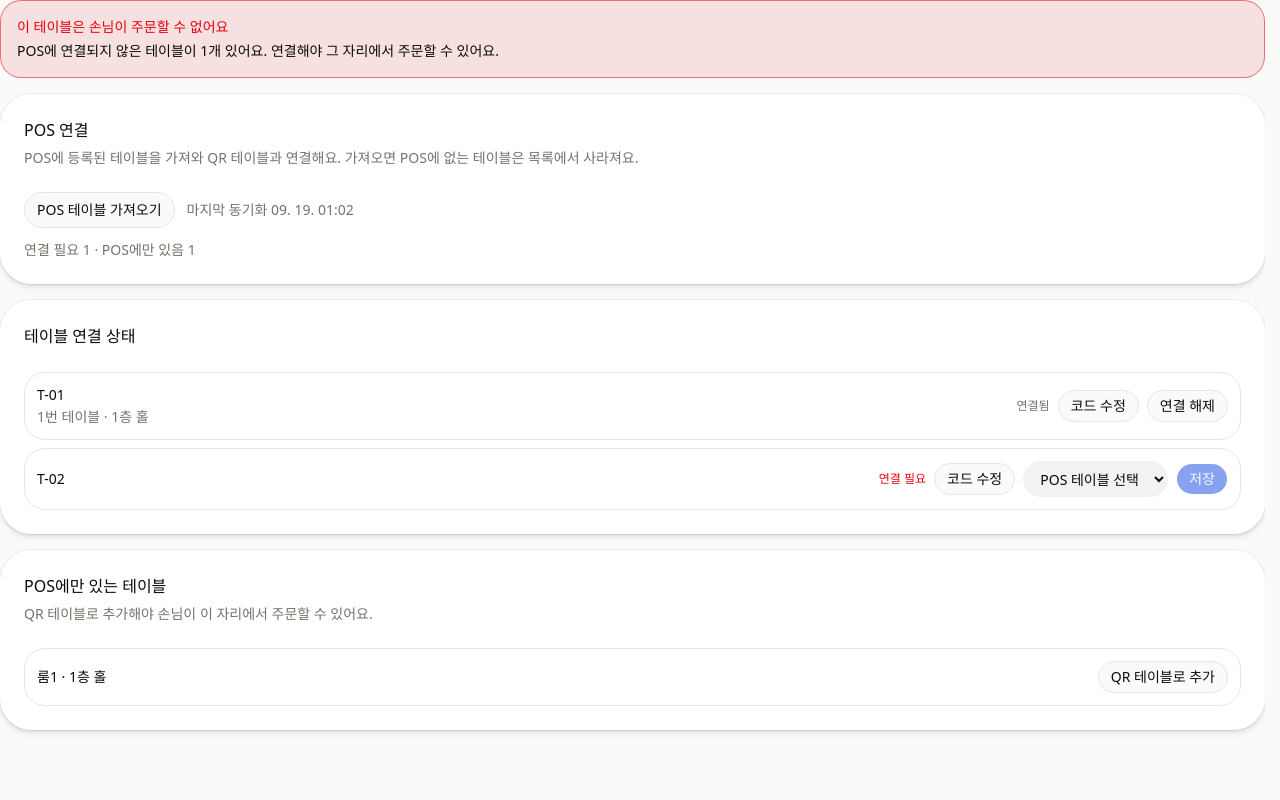
Test case: PosTableLinkSection › opens a code editor prefilled with the table's current code
This screenshot has width=1280, height=800.
Click the button "코드 수정" next to "연결됨". click: [1098, 406]
box: [1058, 390, 1139, 422]
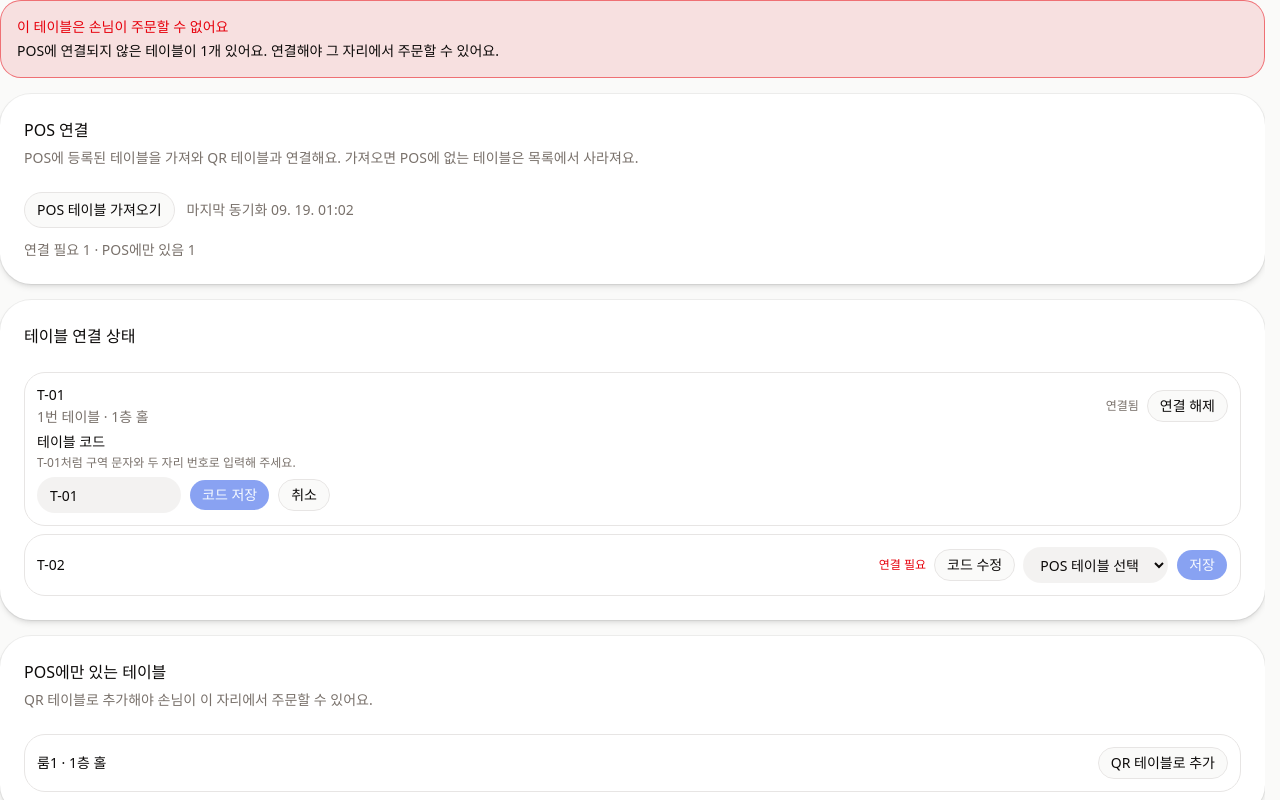
expect the field labelled "테이블 코드" holds "T-01": met, box [37, 477, 181, 513]
expect the text "T-01처럼 구역 문자와 두 자리 번호로 입력해 주세요." is shown: met, box [37, 454, 296, 471]
